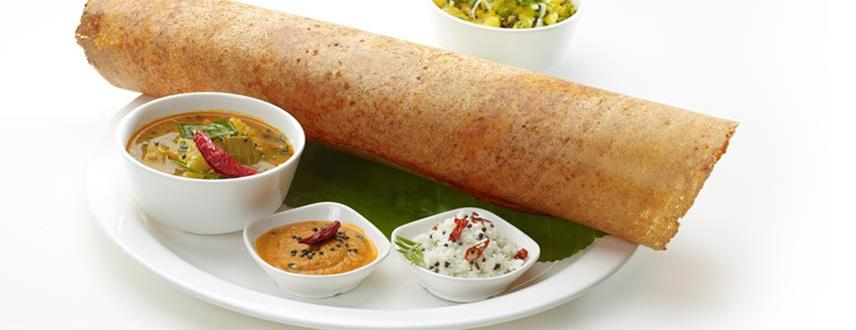dosa: (77, 2, 740, 251)
